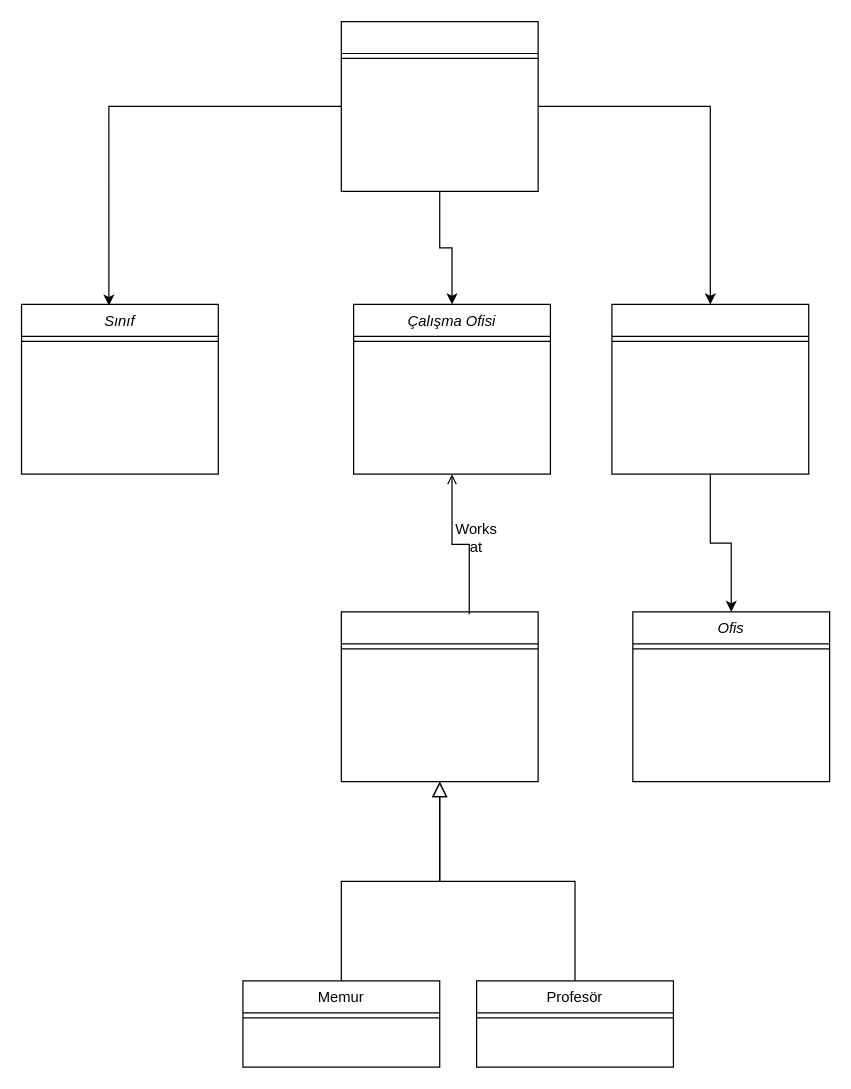
Image size: 851x1089. Some labels were removed from this diagram. The centre of each missing label's shape, as x and y in pixels:
"Departman" belongs at pixel 710 388.
"Çalışanlar" belongs at pixel 439 696.
"Üniversite" belongs at pixel 439 105.
